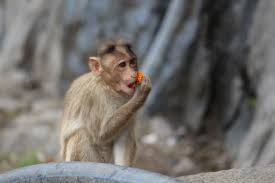monkey: (65, 19, 193, 181)
